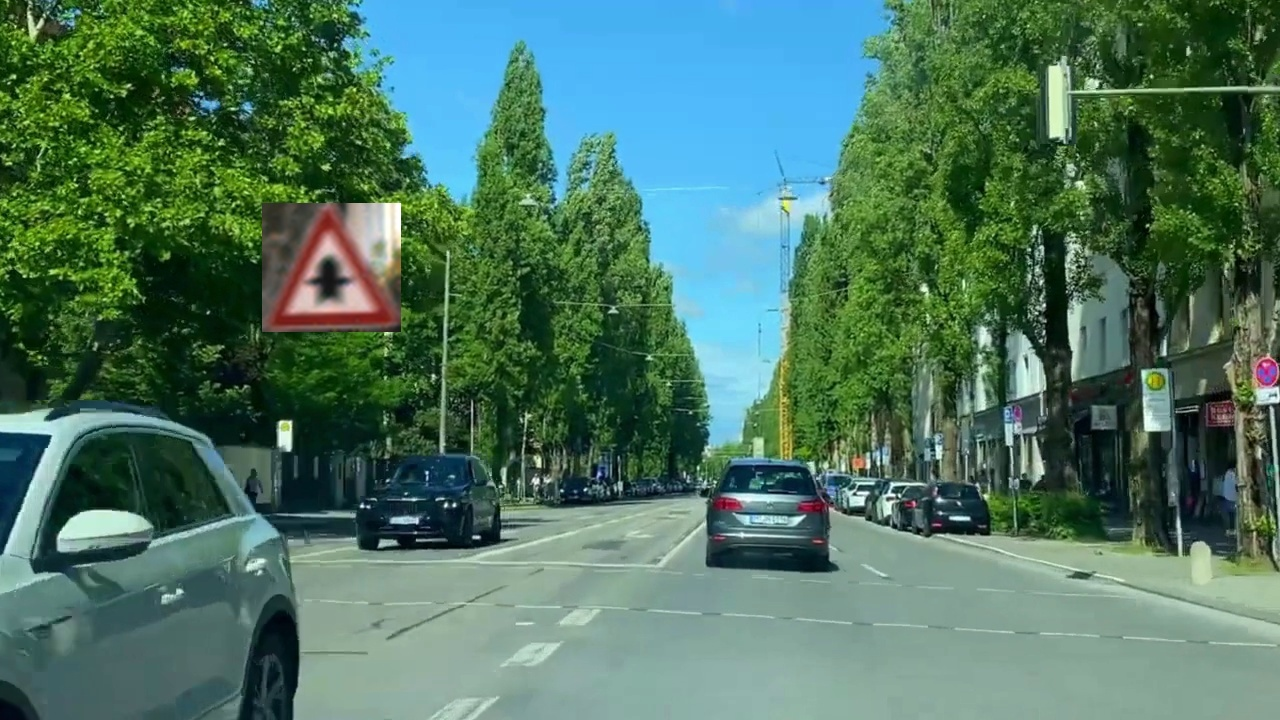Right-of-way: (262, 203, 401, 332)
